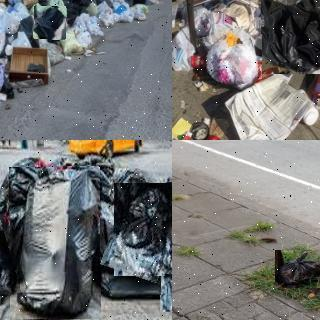Garbage: (10, 167, 101, 319), (107, 179, 172, 279), (261, 0, 320, 74), (202, 28, 259, 90), (0, 210, 22, 307), (275, 250, 320, 287), (34, 6, 67, 40)
